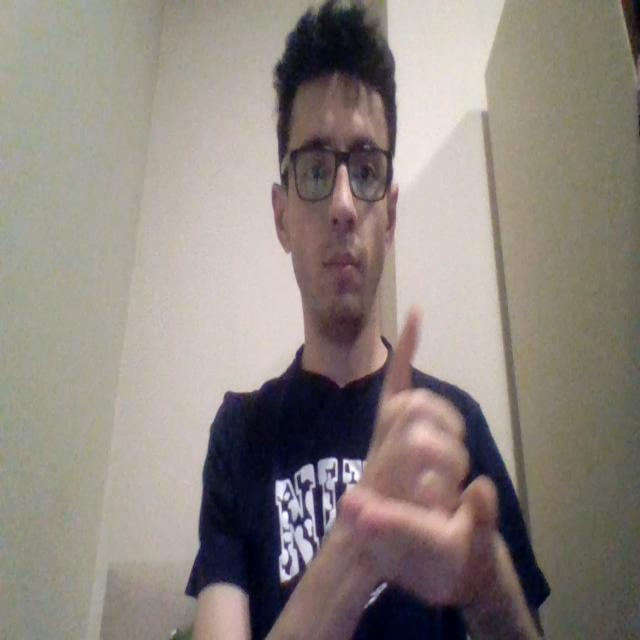help: (338, 301, 496, 599)
